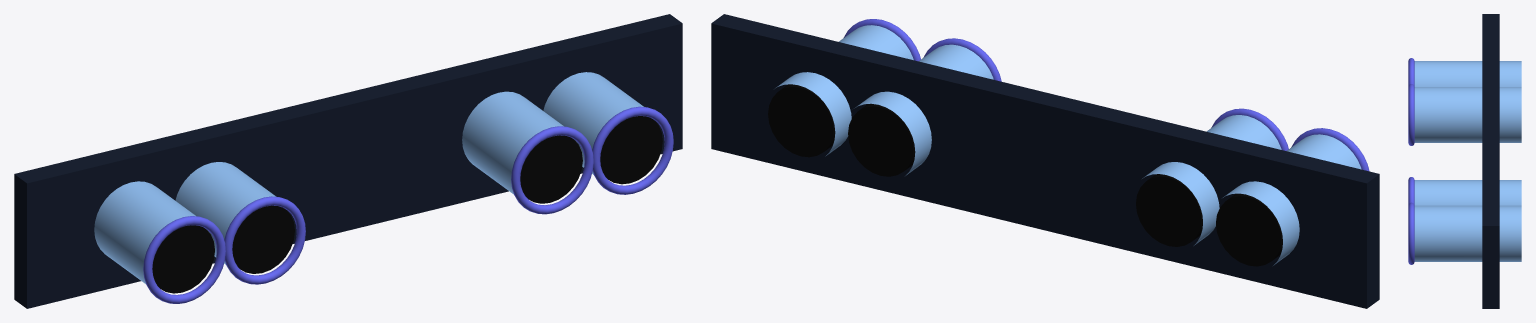
File: exhaust_tips.glb
3 views of the same model, side by side, from view 1: azimuth 30°, elevation 25°; view 2: azimuth 150°, elevation 25°; view 3: azimuth 270°, elevation 25° (orthographic). The views are drawn at different scales.
Parts seen in each view (by area): view 1: Exhaust_Tips_Surround_Assembly; view 2: Exhaust_Tips_Surround_Assembly; view 3: Exhaust_Tips_Surround_Assembly.
Part boxes in pixels (x1,y1,x2,y2): Exhaust_Tips_Surround_Assembly: (14, 14, 682, 308); Exhaust_Tips_Surround_Assembly: (711, 14, 1379, 308); Exhaust_Tips_Surround_Assembly: (1408, 14, 1521, 308).
Bounding box in the file's own units: 0.82 × 0.15 × 0.185.
